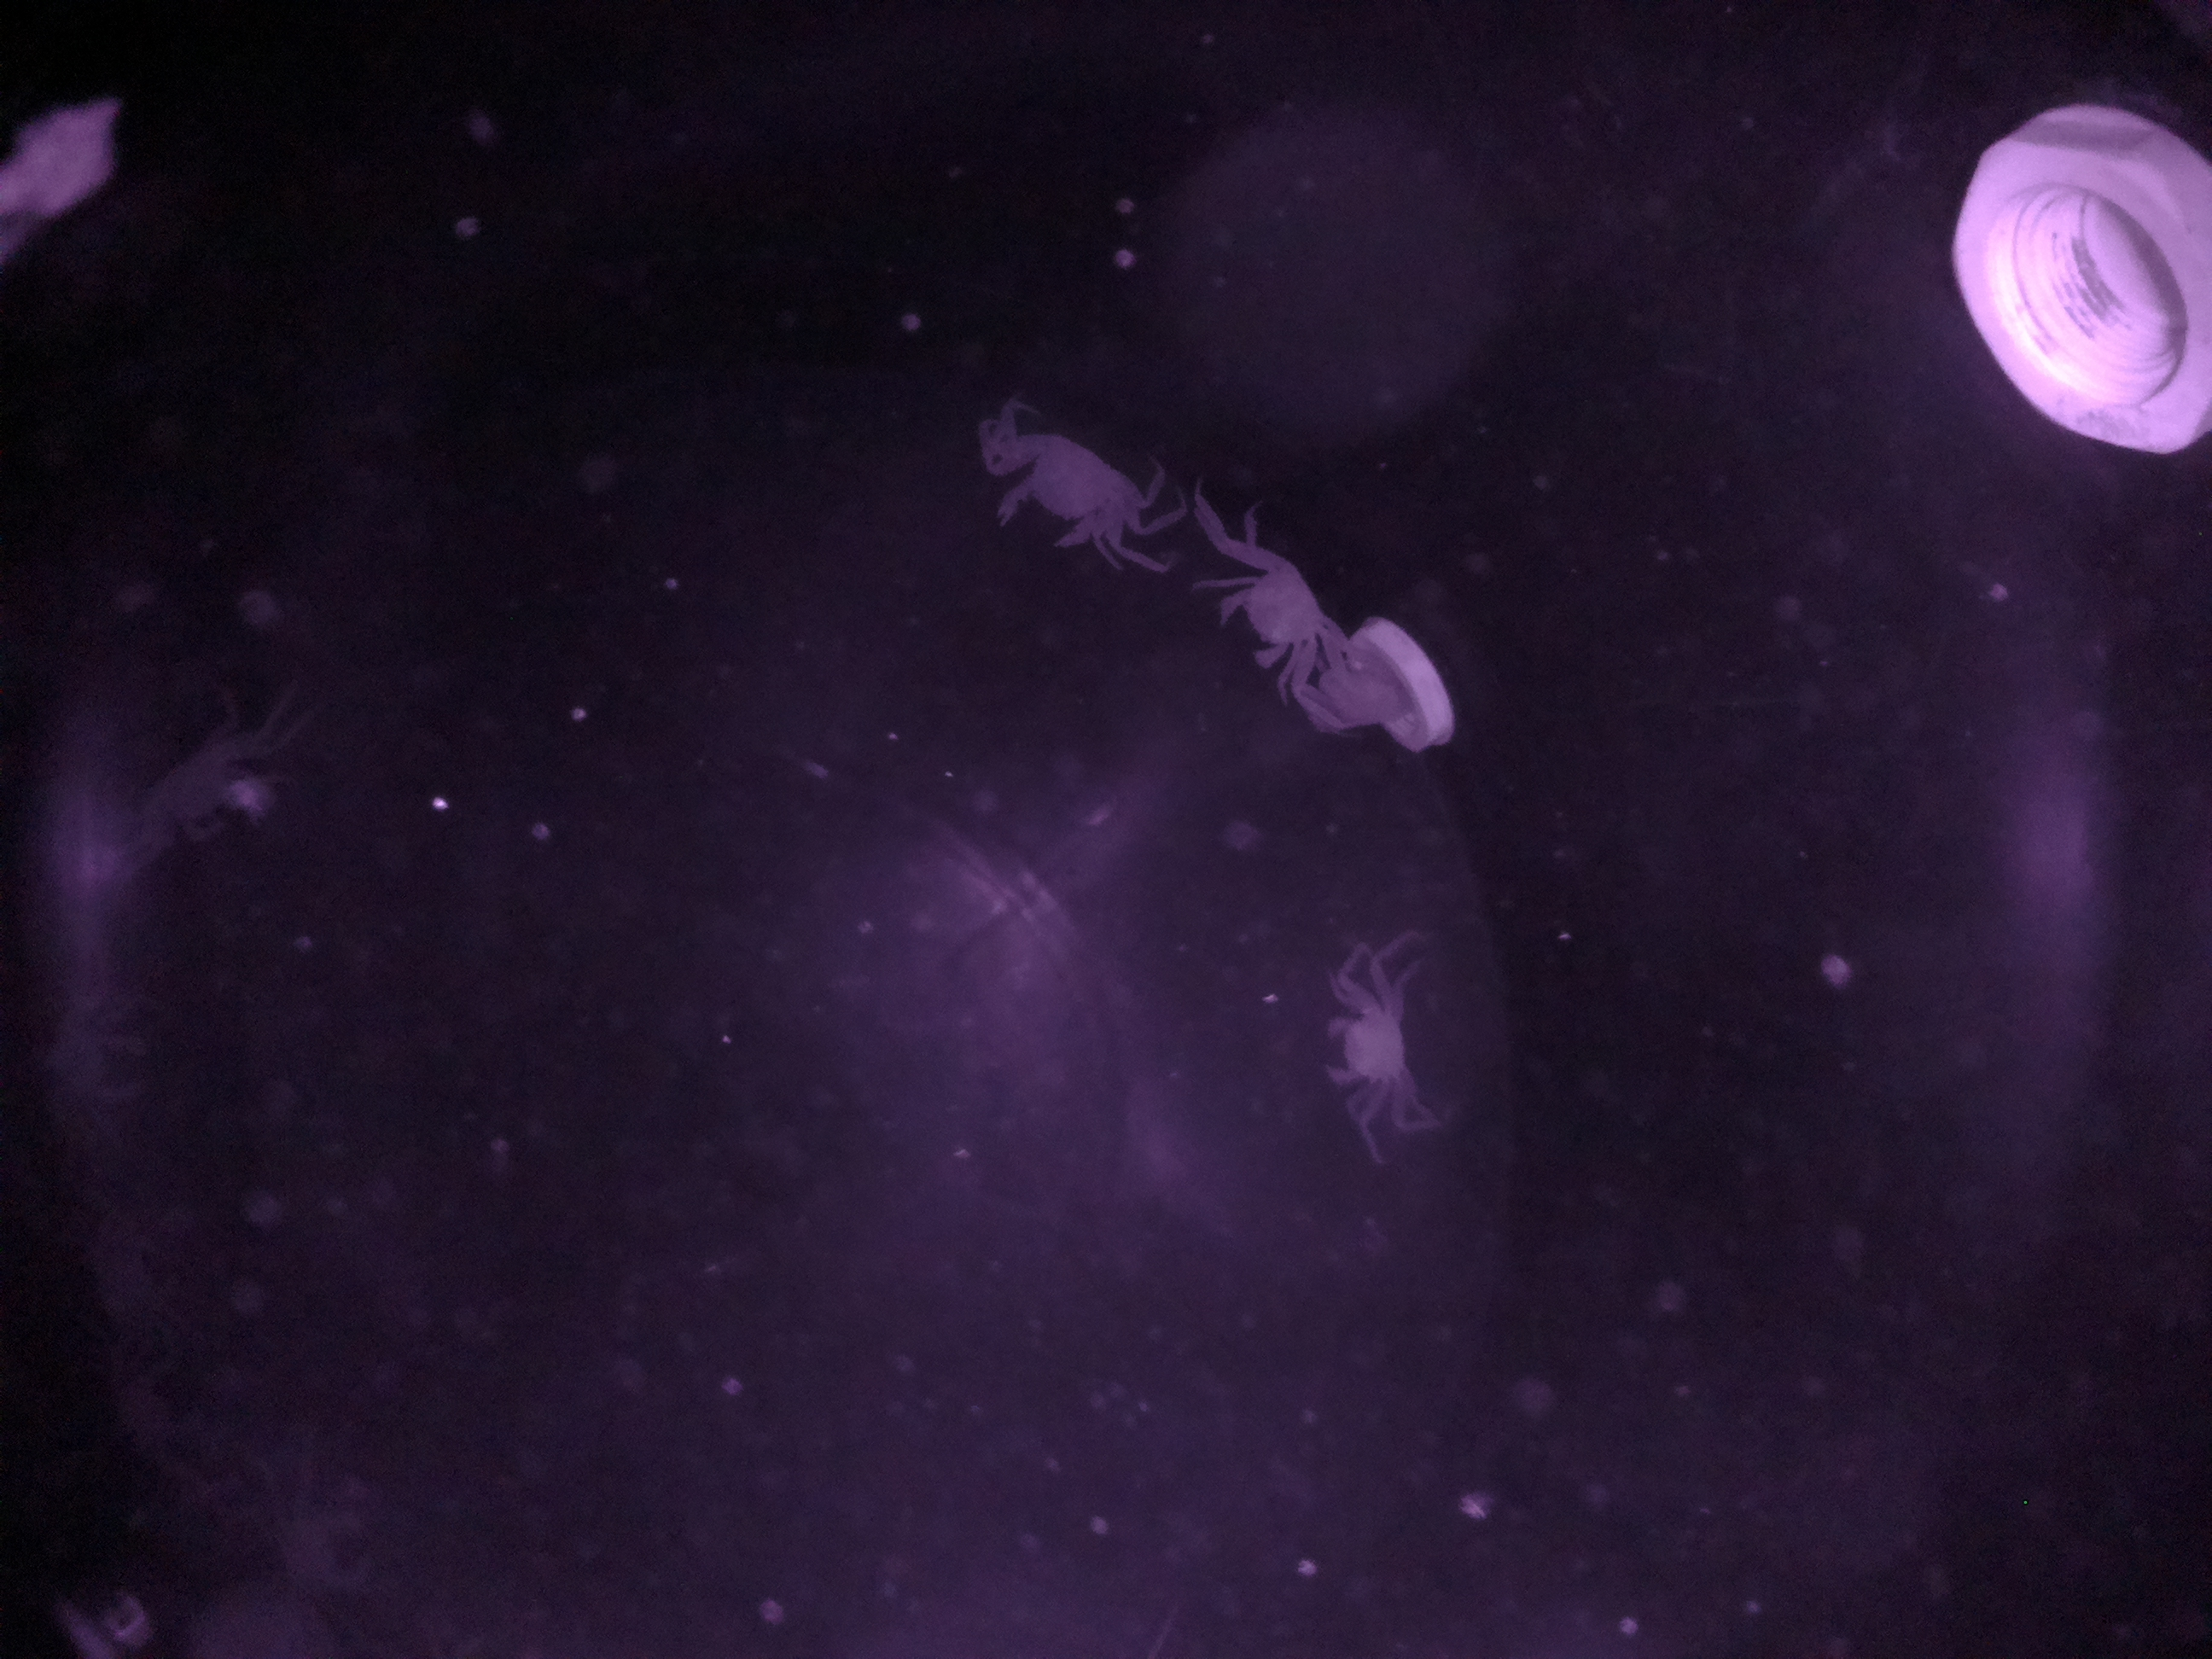Crab: (960, 383, 1179, 577), (1289, 960, 1470, 1143), (1188, 518, 1374, 692)
